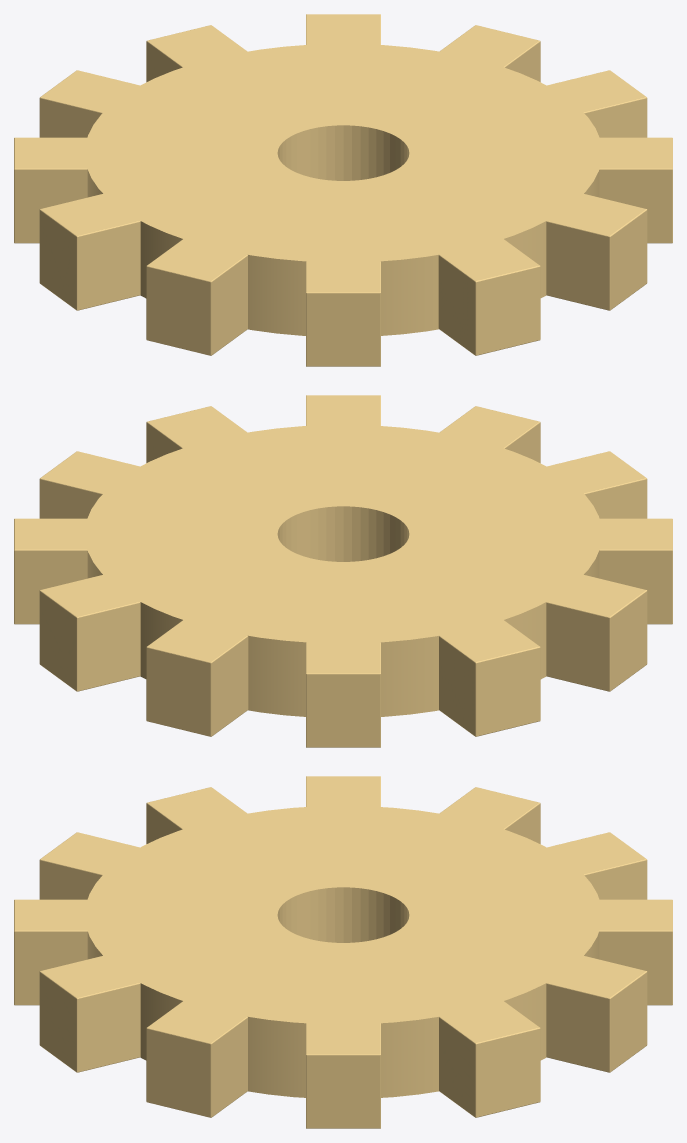
Rendered from gear.fbx.
3 renders of one model, top to bottom at view 1: azimuth 30°, elevation 25°; view 2: azimuth 150°, elevation 25°; view 3: azimuth 270°, elevation 25°, orthographic.
Visible parts, largest first — view 1: Gear_Disc, Gear; view 2: Gear_Disc, Gear; view 3: Gear_Disc, Gear.
Boxes of the visible parts, x1,y1,x2,y2 form: Gear_Disc: [84, 43, 602, 335]; Gear: [14, 14, 672, 366]; Gear_Disc: [85, 424, 602, 716]; Gear: [14, 395, 672, 747]; Gear_Disc: [87, 805, 599, 1097]; Gear: [14, 776, 672, 1128].
Size of the model in its own units: 280 by 35 by 280.
